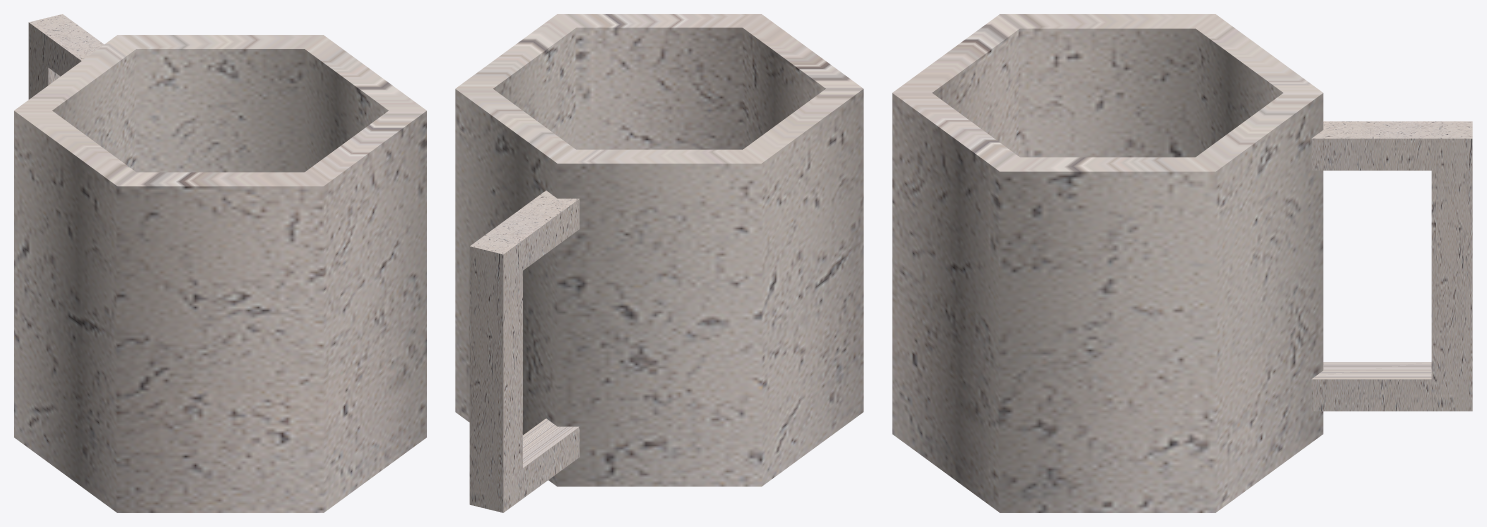
File: Taza.fbx
3 renders of one model, left to right at view 1: azimuth 30°, elevation 25°; view 2: azimuth 150°, elevation 25°; view 3: azimuth 270°, elevation 25°, orthographic. The views are drawn at different scales.
Parts seen in each view (by area): view 1: Cylinder.002; view 2: Cylinder.002; view 3: Cylinder.002.
Part boxes in pixels (x1,y1,x2,y2): Cylinder.002: (14, 14, 426, 512); Cylinder.002: (455, 14, 863, 512); Cylinder.002: (892, 14, 1472, 512).
Bounding box in the file's own units: 86.61 × 87.32 × 135.
1 material, 1 textured.
